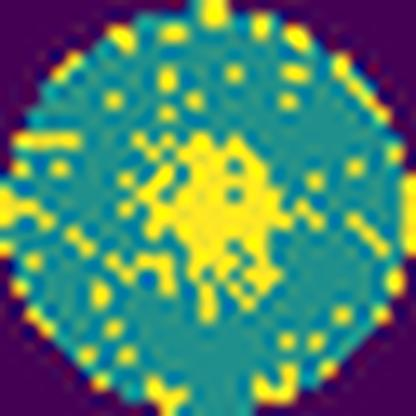Center: (129, 131, 300, 326)
